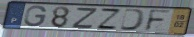8: (51, 6, 71, 29)
D: (118, 8, 147, 32)
F: (143, 9, 174, 32)
G: (23, 5, 49, 28)
Z: (70, 8, 100, 30), (95, 7, 123, 30)
